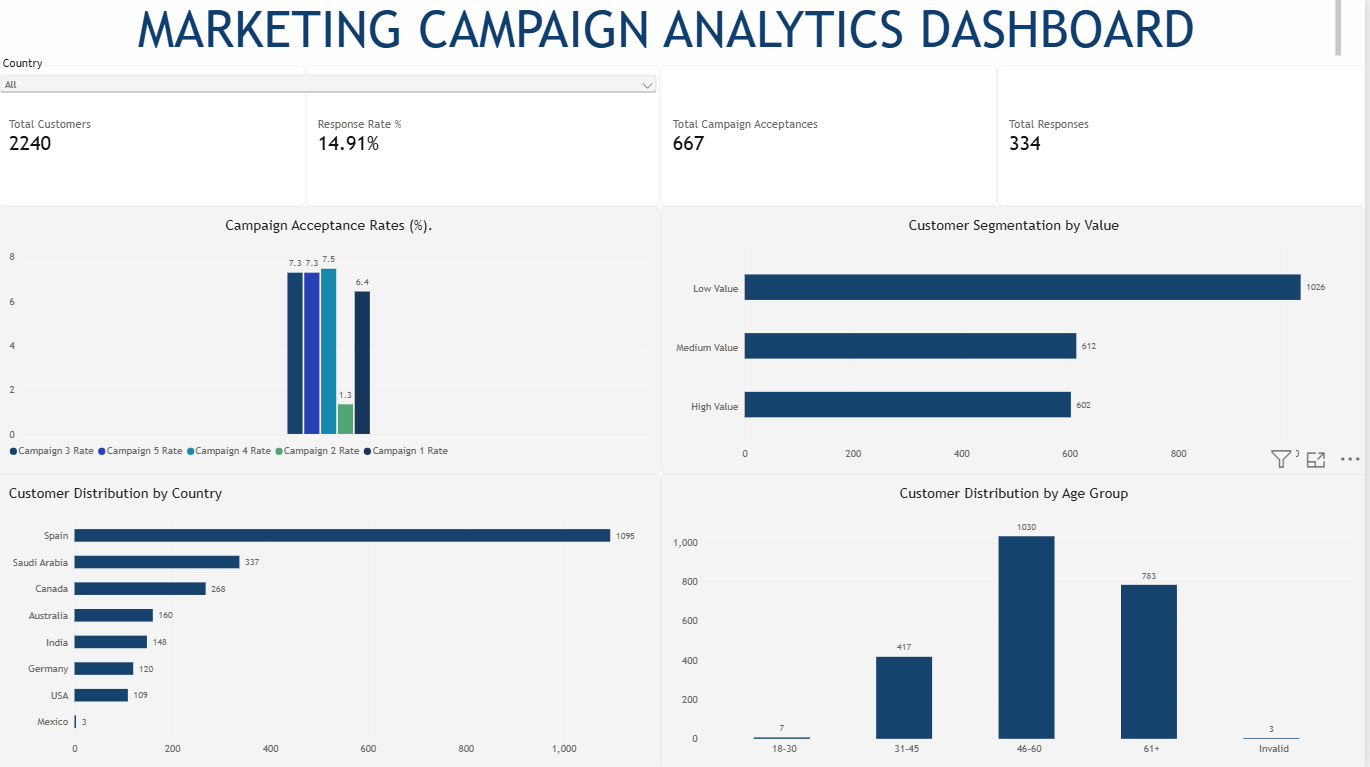

Layout of this report page (visuals, bound fields, positions):
{"tool":"powerbi","page":{"name":"Page 1","canvas":[1920,1080],"ordinal":0},"visuals":[{"type":"cardVisual","fields":{"Data":["Count(marketing_analytics marketing_data_working.ID)"]},"box":[0,92.6,433.8,198.8],"z":0},{"type":"cardVisual","fields":{"Data":["Sum(marketing_analytics marketing_data_working.Response)"]},"box":[1403.1,92.6,517.4,198.8],"z":1000},{"type":"cardVisual","fields":{"Data":["marketing_data_working.Response Rate %"]},"box":[433.8,92.6,497.1,198.8],"z":2000},{"type":"cardVisual","fields":{"Data":["marketing_data_working.Total Campaign Acceptances"]},"box":[930.9,92.6,472.2,198.8],"z":3000},{"type":"clusteredColumnChart","title":"Campaign Acceptance Rates (%).","fields":{"Y":["marketing_data_working.Campaign 3 Rate","marketing_data_working.Campaign 5 Rate","marketing_data_working.Campaign 4 Rate","marketing_data_working.Campaign 2 Rate","marketing_data_working.Campaign 1 Rate"]},"box":[0,291.5,930.9,375.1],"z":4000},{"type":"clusteredBarChart","title":"Customer Segmentation by Value","fields":{"Category":["marketing_data_working.Customer_Segment"],"Y":["CountNonNull(marketing_data_working.ID)"]},"box":[930.9,291.5,989.6,375.1],"z":5000},{"type":"clusteredColumnChart","title":"Customer Distribution by Age Group","fields":{"Category":["marketing_data_working.Age_Group"],"Y":["CountNonNull(marketing_data_working.ID)"]},"box":[930.9,666.5,989.6,413.5],"z":6000},{"type":"slicer","title":"Customer Distribution by Country","fields":{"Values":["marketing_data_working.Country"]},"box":[0,81.3,930.9,106.2],"z":7000},{"type":"textbox","box":[0,0,1886.6,81.3],"z":8000},{"type":"clusteredBarChart","title":"Customer Distribution by Country","fields":{"Category":["marketing_data_working.Country"],"Y":["CountNonNull(marketing_data_working.ID)"]},"box":[0,666.5,930.9,413.5],"z":9000}]}

Visuals, with their boxes in screenshot pixels (x1, y1, x2, y2), scaled from the page's 1920x1080 canvas onto the 1370x767 screenshot:
cardVisual - Count(marketing_analytics marketing_data_working.ID): (left=0, top=66, right=310, bottom=207)
cardVisual - Sum(marketing_analytics marketing_data_working.Response): (left=1001, top=66, right=1369, bottom=207)
cardVisual - marketing_data_working.Response Rate %: (left=310, top=66, right=664, bottom=207)
cardVisual - marketing_data_working.Total Campaign Acceptances: (left=664, top=66, right=1001, bottom=207)
"Campaign Acceptance Rates (%)." clusteredColumnChart: (left=0, top=207, right=664, bottom=473)
"Customer Segmentation by Value" clusteredBarChart: (left=664, top=207, right=1369, bottom=473)
"Customer Distribution by Age Group" clusteredColumnChart: (left=664, top=473, right=1369, bottom=766)
"Customer Distribution by Country" slicer: (left=0, top=58, right=664, bottom=133)
textbox: (left=0, top=0, right=1346, bottom=58)
"Customer Distribution by Country" clusteredBarChart: (left=0, top=473, right=664, bottom=766)
